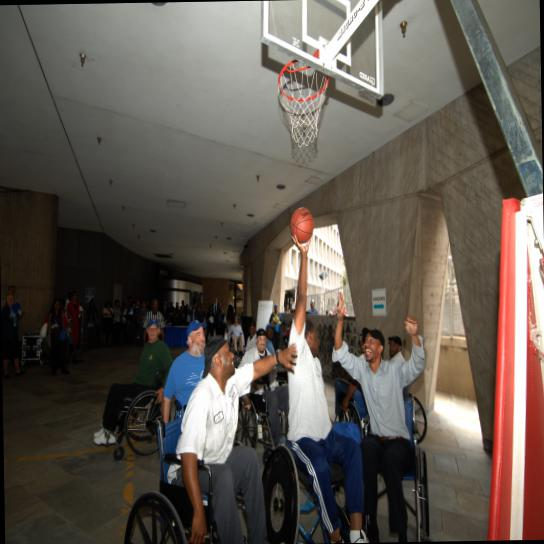basketball-hoop: (275, 51, 334, 150)
